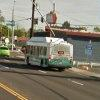buses: (24, 38, 74, 71)
